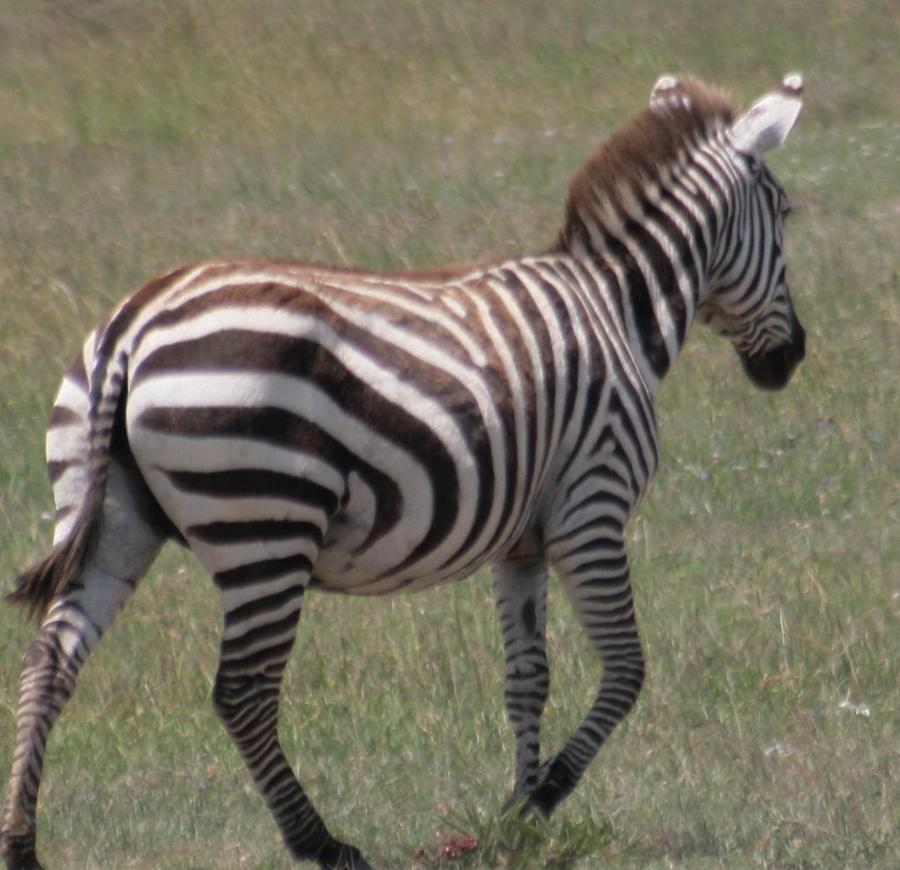zebra_plains: (113, 203, 686, 604)
